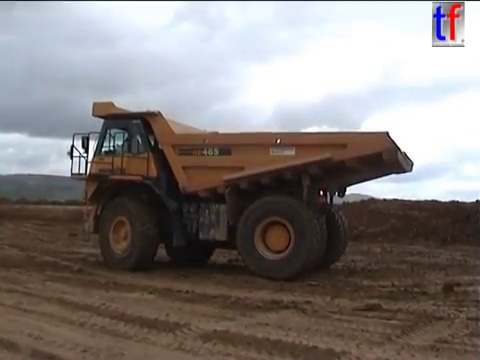truck: (64, 99, 415, 283)
